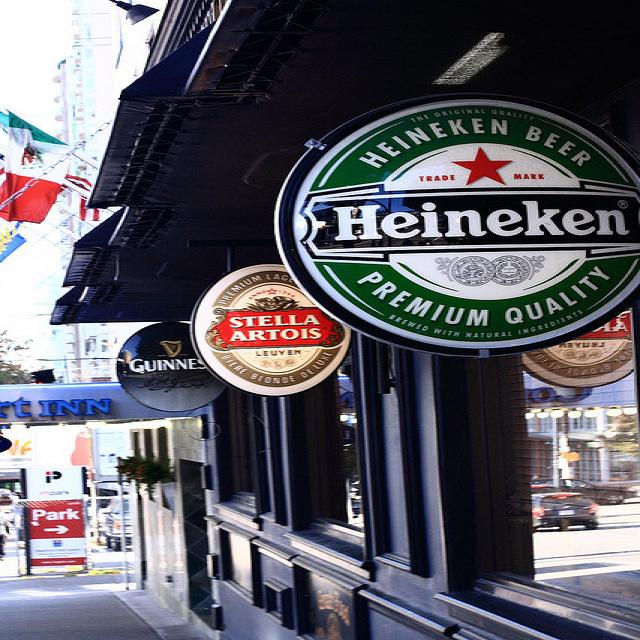Vehicle: (528, 477, 638, 506), (531, 492, 597, 531), (97, 496, 130, 552)
